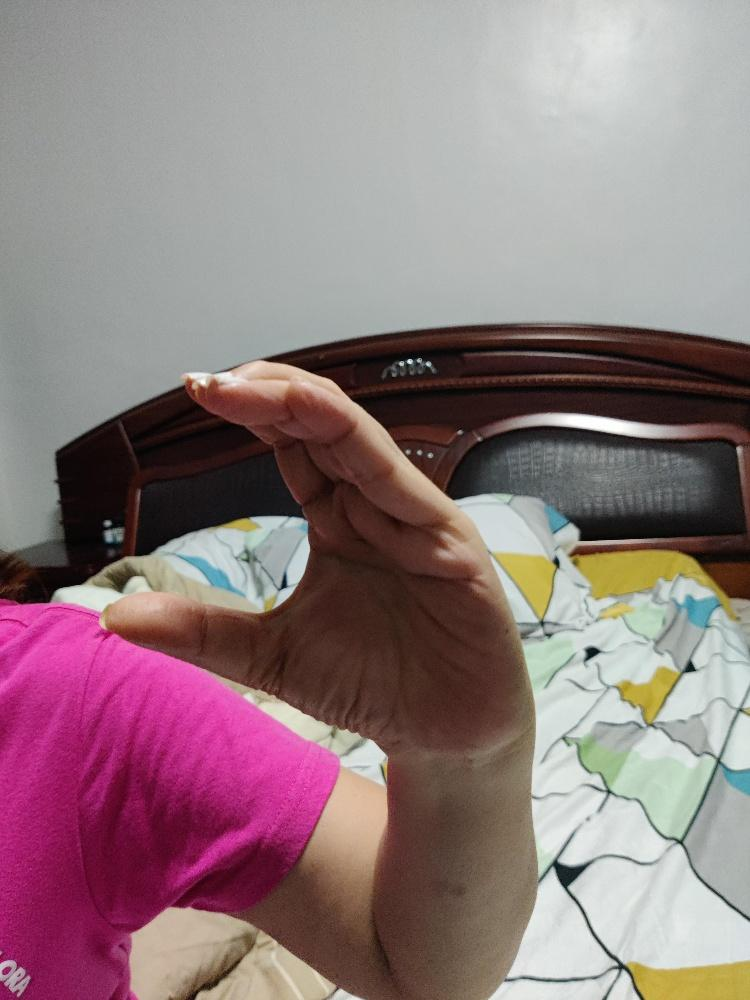c: (96, 358, 530, 755)
